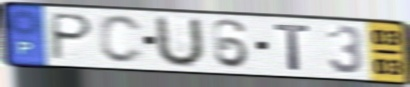3: (323, 23, 364, 76)
6: (212, 18, 250, 72)
C: (97, 13, 146, 66)
P: (48, 11, 96, 62)
T: (273, 23, 314, 73)
U: (154, 14, 207, 69)
